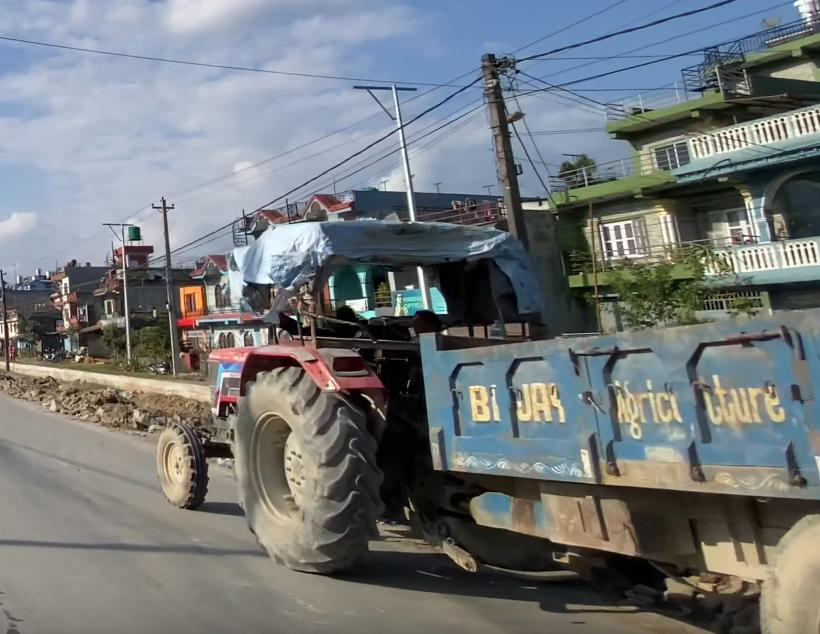tractor: (153, 202, 556, 581)
